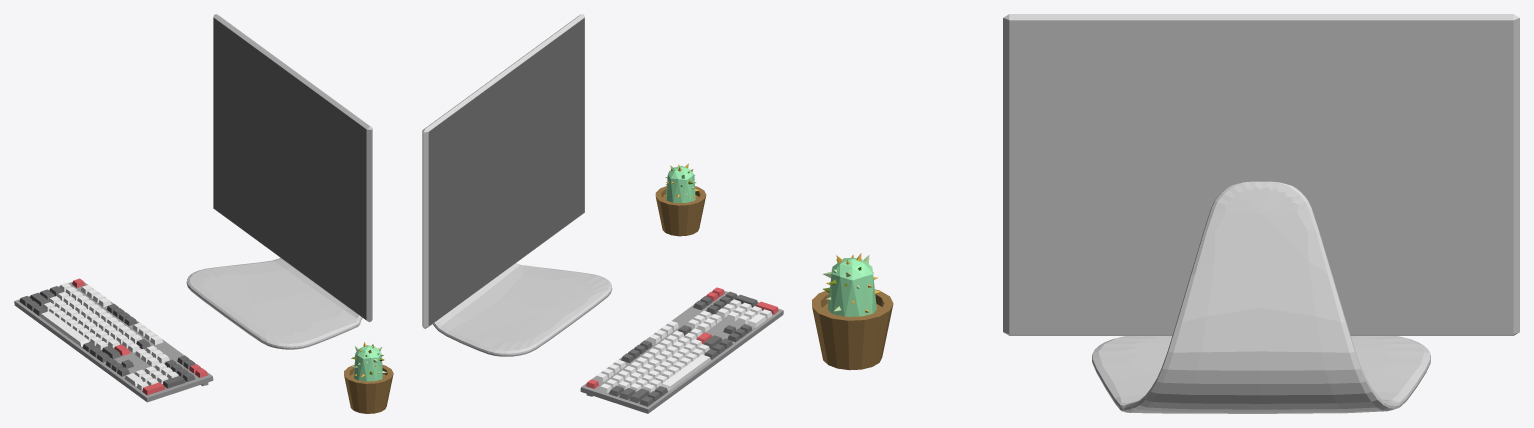
The model's file is computerFlat.glb.
3 renders of one model, left to right at view 1: azimuth 30°, elevation 25°; view 2: azimuth 150°, elevation 25°; view 3: azimuth 270°, elevation 25°, orthographic. The views are drawn at different scales.
Parts seen in each view (by area): view 1: ScreenFlat, BaseFlat, KeyboardBase, Cylinder, Icosphere, Space; view 2: ScreenFlat, BaseFlat, KeyboardBase, Cylinder, Icosphere, Space; view 3: ScreenFlat, BaseFlat, Cylinder, Icosphere.
Part boxes in pixels (x1,y1,x2,y2): ScreenFlat: [213, 14, 372, 322]; BaseFlat: [186, 258, 362, 349]; KeyboardBase: [14, 282, 213, 402]; Cylinder: [344, 365, 393, 413]; Icosphere: [354, 345, 383, 381]; Space: [40, 311, 88, 346]; ScreenFlat: [422, 14, 584, 328]; BaseFlat: [433, 263, 612, 356]; KeyboardBase: [580, 290, 783, 413]; Cylinder: [655, 186, 706, 236]; Icosphere: [666, 166, 695, 203]; Space: [661, 354, 710, 390]; ScreenFlat: [1003, 14, 1519, 335]; BaseFlat: [1092, 181, 1430, 413]; Cylinder: [812, 289, 893, 370]; Icosphere: [828, 258, 876, 316].
Size of the model in its own units: 4.18 by 3.59 by 5.99.
